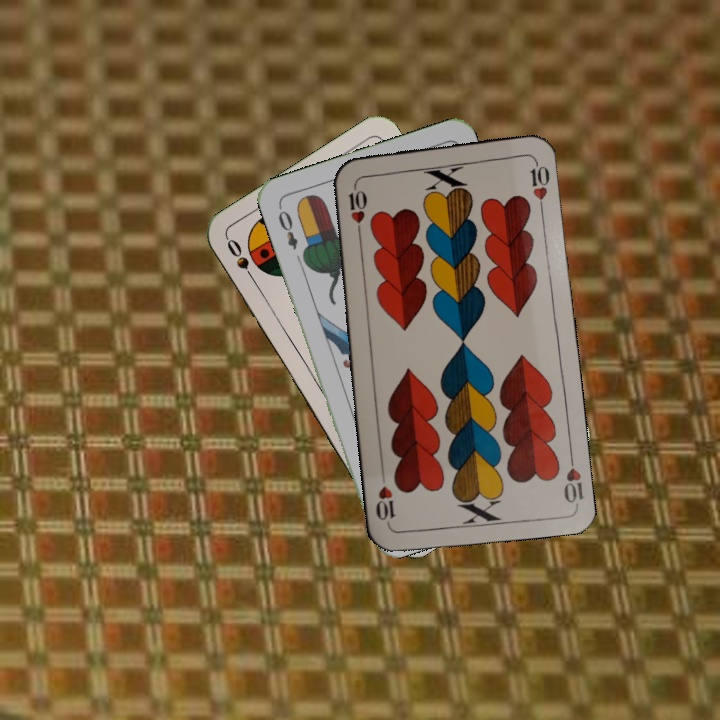EO: (274, 202, 301, 252)
H10: (559, 448, 585, 507), (344, 180, 368, 239)
SO: (222, 234, 261, 288)
